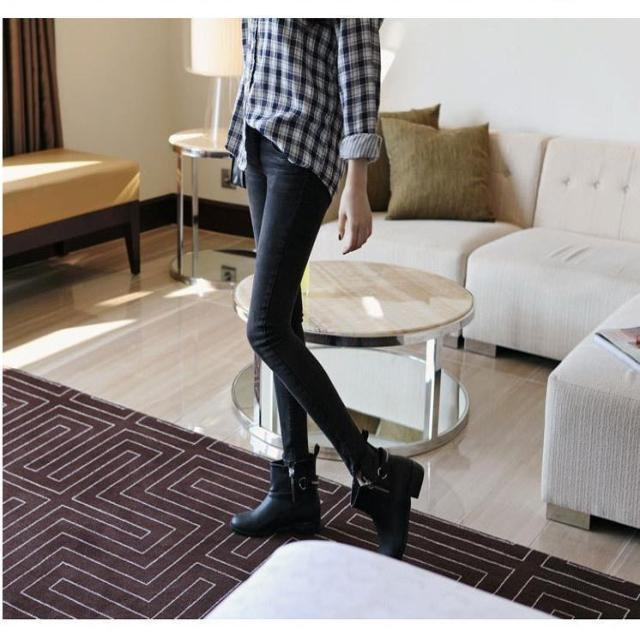long sleeve top: (224, 21, 342, 200), (333, 21, 382, 162)
trousers: (245, 96, 341, 306)
